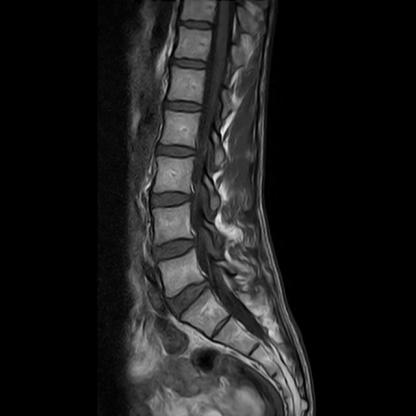Degenerative Disc Diseaserotation: (164, 282, 216, 311)
Disc Bulgerotation: (164, 282, 216, 311)
